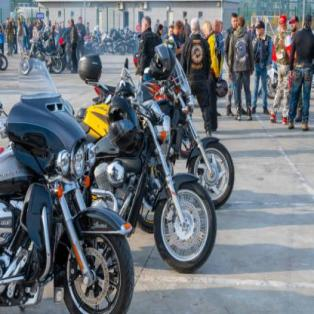Motocicleta: (0, 86, 134, 313), (95, 89, 220, 276), (149, 53, 236, 218)
